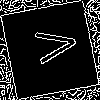V: (25, 25, 79, 67)
